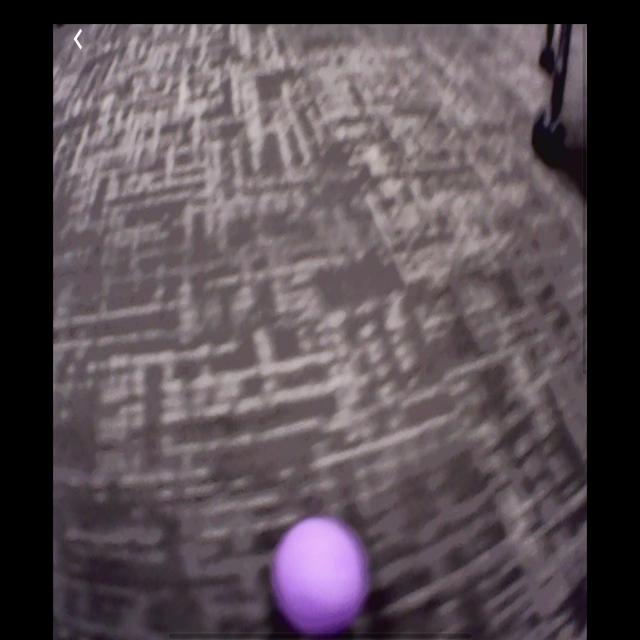ball: (274, 511, 365, 637)
